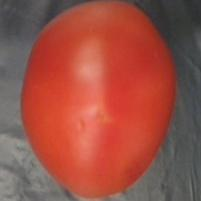unripe: (17, 0, 181, 201)
